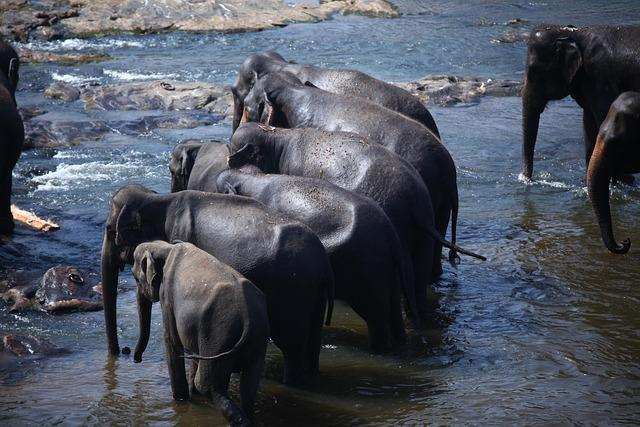Non_Gorille: (40, 15, 535, 394)
